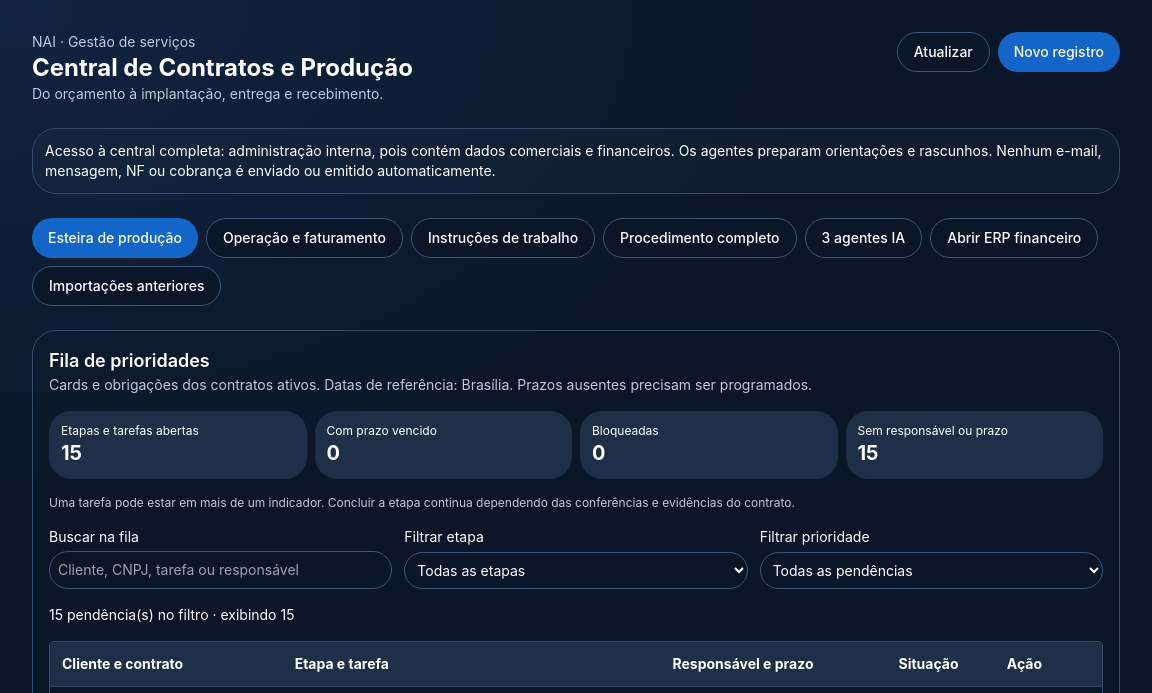
Test: production workspace › loads the billing handoff for the visible version and opens its exact cycle without a mutation
Click the button "Operação e faturamento".
click(304, 238)  # box [206,218,403,258]
(page scrolled)
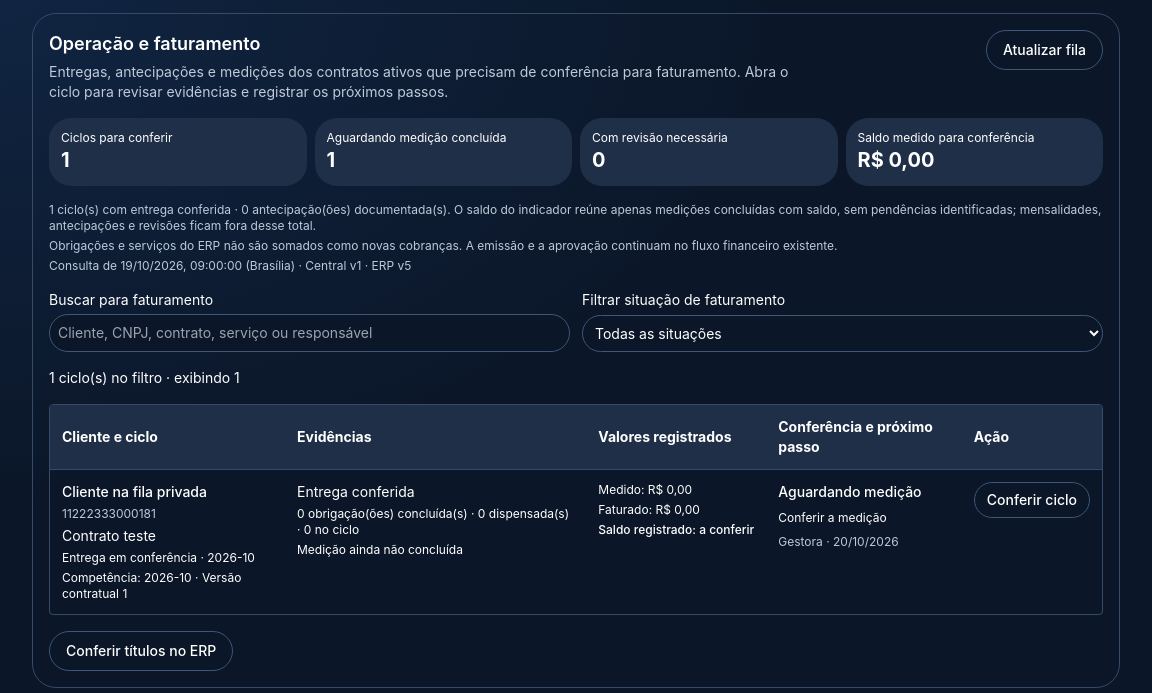
Check: the text "Cliente na fila privada" is shown, box [62,483,207,500]
Check: the button "Conferir ciclo" is shown
Click the button "Conferir ciclo".
click(1032, 500)  # box [974,482,1090,518]
(page scrolled)
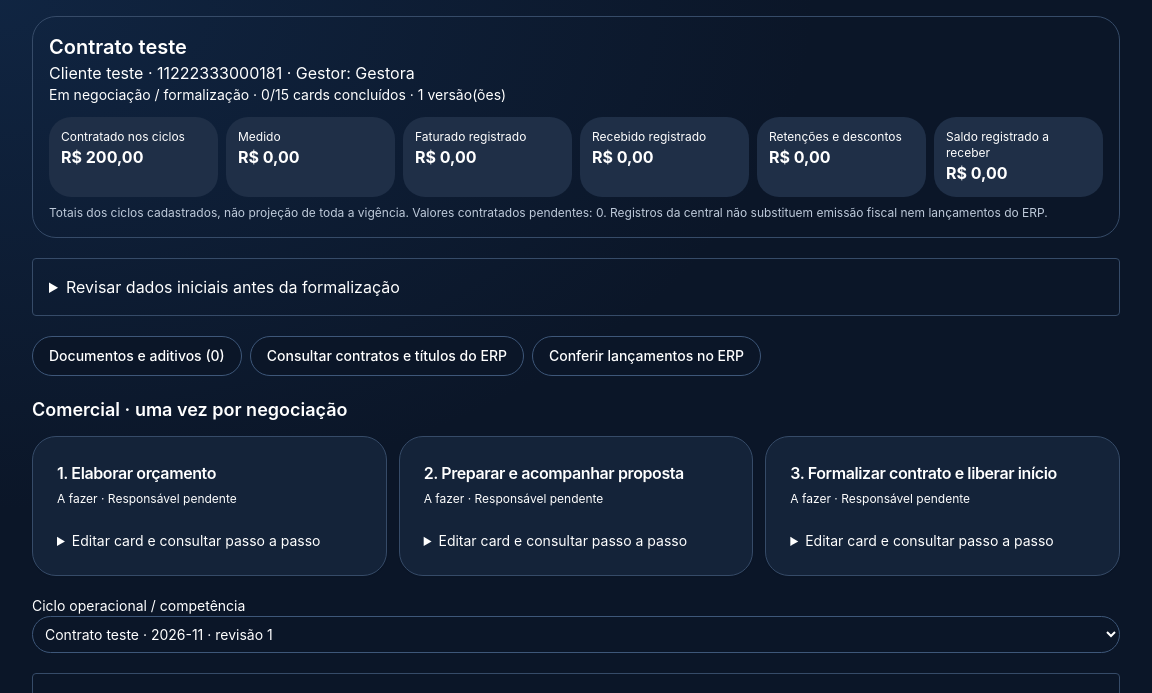
Check: the dropdown labelled "Ciclo operacional / competência" shows "Contrato teste · 2026-11 · revisão 1", box [32,616,1120,653]
